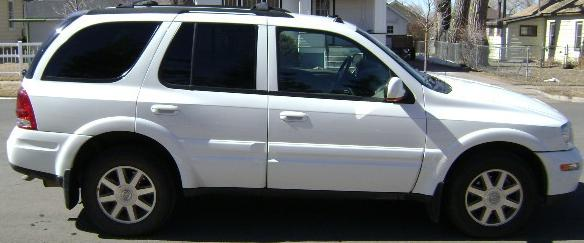side_glass: (36, 19, 421, 108)
